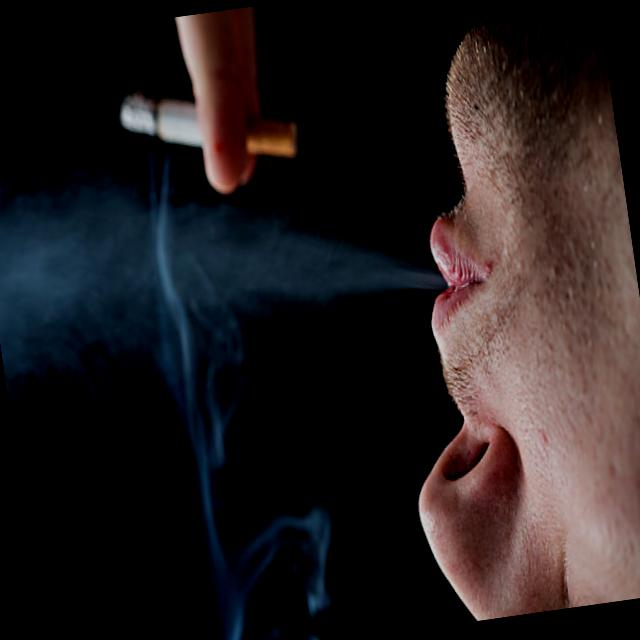smoke: (112, 68, 302, 174)
